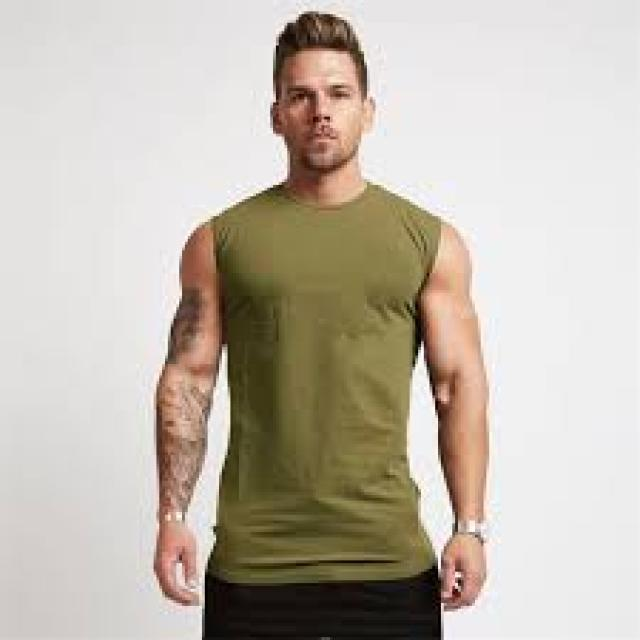no_vest: (208, 179, 443, 582)
